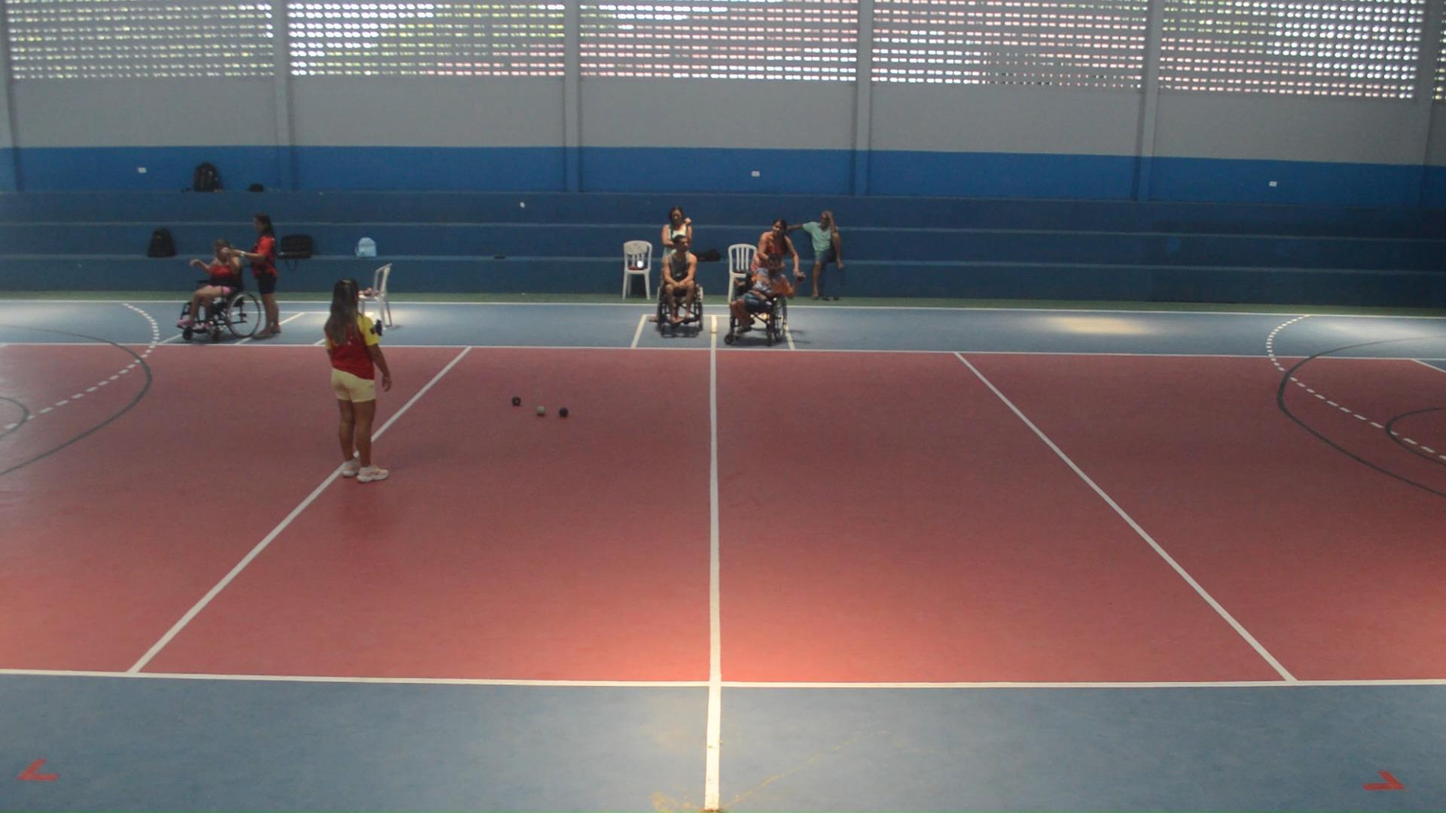blue_ball: (558, 407, 569, 418)
red_ball: (511, 396, 522, 407)
white_ball: (536, 406, 545, 416)
